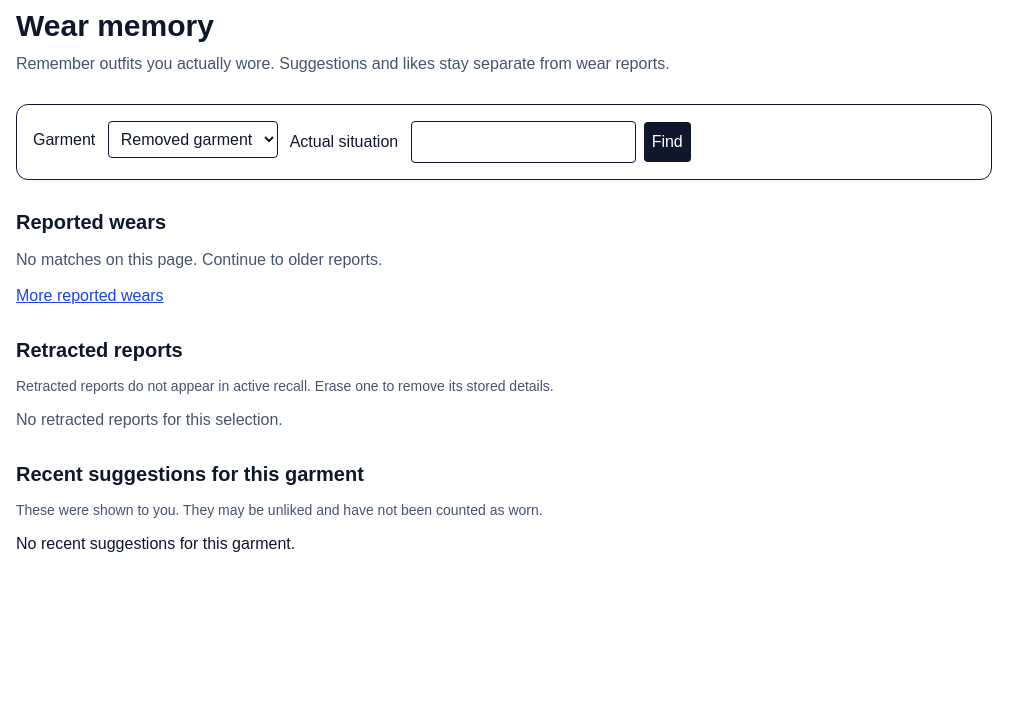
Test: keeps a sparse recall page honest and follows its continuation
The image size is (1009, 712).
Expected: the text "No matches on this page. Continue to older reports." is shown, [16,251,382,268]
Click the button "More reported wears" at {"x": 90, "y": 296}, box [16,284,164,308]
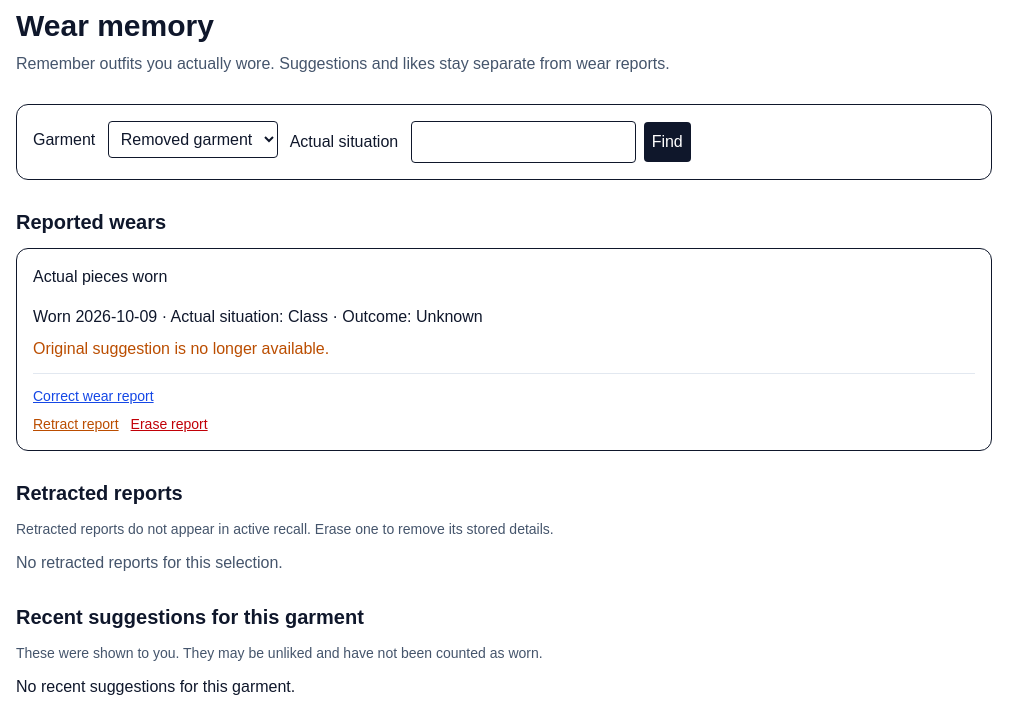
Expected: the text "Worn 2026-10-09 · Actual situation: Class · Outcome: Unknown" is shown, [33,308,483,325]
